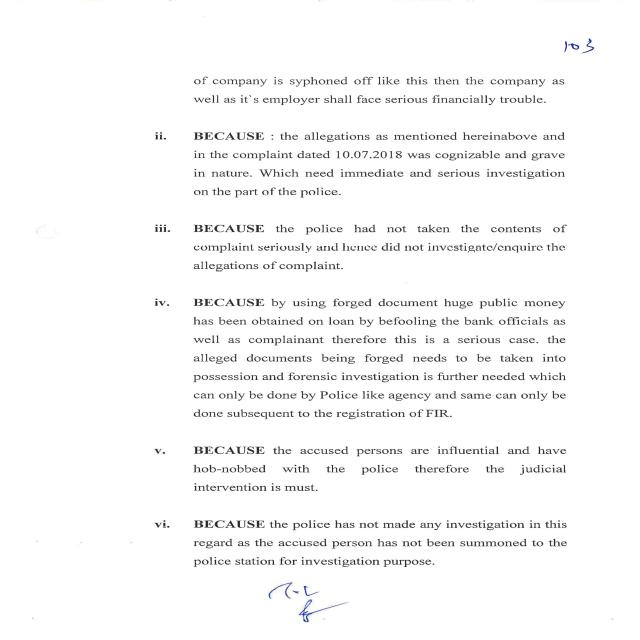page-number: (446, 0, 638, 76)
